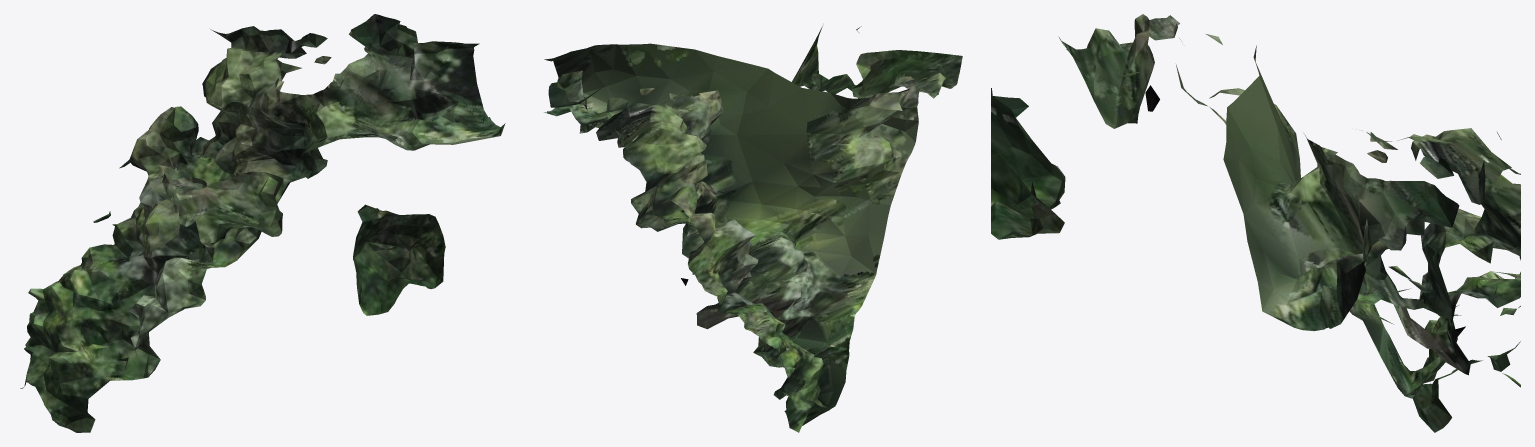
3 views of the same model, side by side, from view 1: azimuth 30°, elevation 25°; view 2: azimuth 150°, elevation 25°; view 3: azimuth 270°, elevation 25° (orthographic). The views are drawn at different scales.
Bounding box in the file's own units: 26.11 × 21.61 × 26.11.
Materials: 3 (3 with a texture image).
